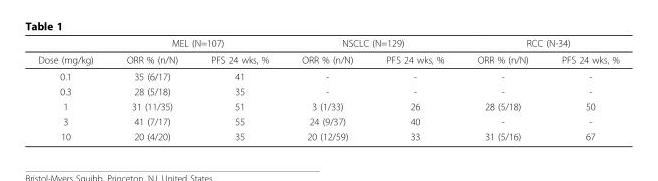table: (37, 37, 618, 141)
table column: (368, 37, 460, 141), (193, 37, 284, 141), (109, 37, 193, 141), (284, 37, 368, 141), (460, 37, 544, 141), (544, 37, 618, 141), (37, 37, 109, 141)
table column header: (37, 37, 618, 67)
table row: (37, 51, 618, 67), (37, 67, 618, 83), (37, 83, 618, 98), (37, 98, 618, 113), (37, 113, 618, 128), (37, 37, 618, 51), (37, 128, 618, 141)
table spanning cell: (284, 37, 460, 51), (109, 37, 284, 51), (460, 37, 618, 51), (37, 37, 109, 67)
